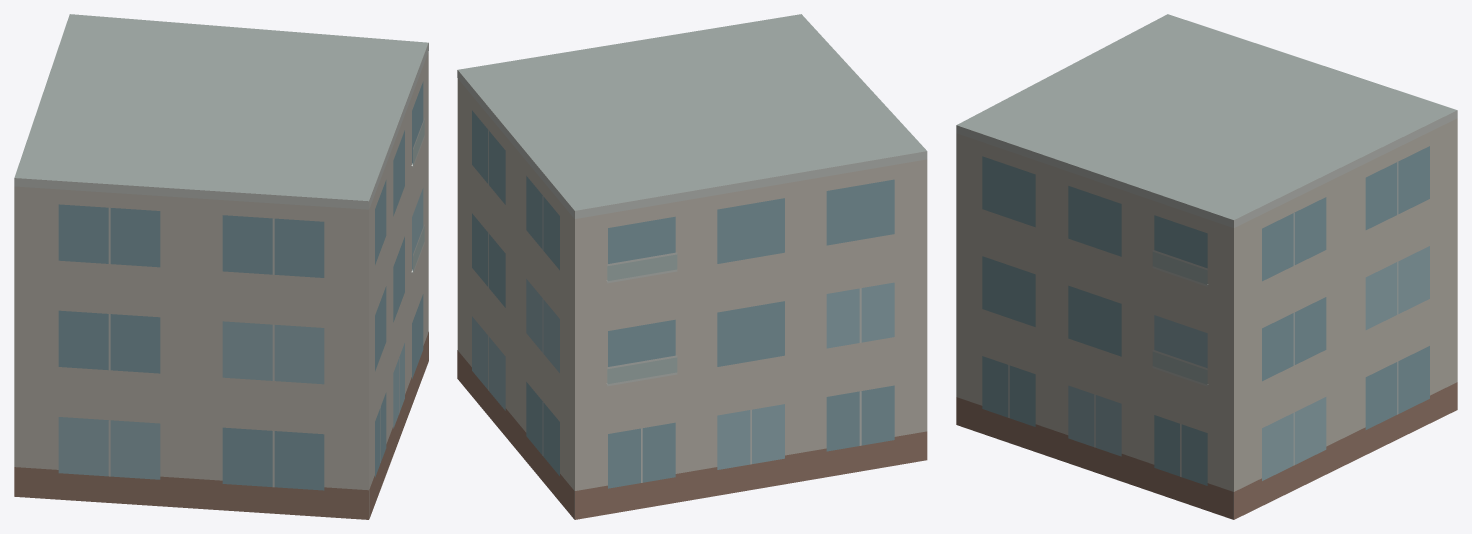
File: survey-upis-32598121.glb
3 views of the same model, side by side, from view 1: azimuth 30°, elevation 25°; view 2: azimuth 150°, elevation 25°; view 3: azimuth 270°, elevation 25° (orthographic). The views are drawn at different scales.
Parts seen in each view (by area): view 1: survey-upis-32598121.tmp; view 2: survey-upis-32598121.tmp; view 3: survey-upis-32598121.tmp.
Part boxes in pixels (x1,y1,x2,y2): survey-upis-32598121.tmp: (14,14,428,519); survey-upis-32598121.tmp: (457,14,927,519); survey-upis-32598121.tmp: (956,14,1457,519).
Size of the model in its own units: 13.51 by 9.15 by 13.88.
